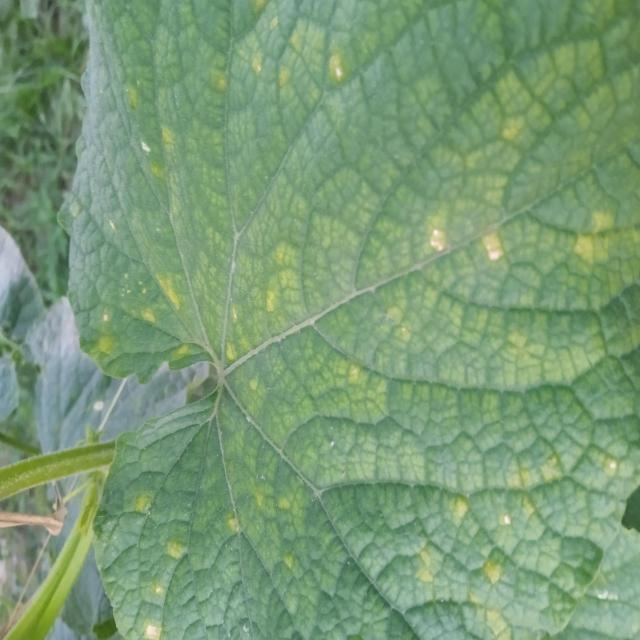cucumber_downy: (55, 5, 634, 640)
